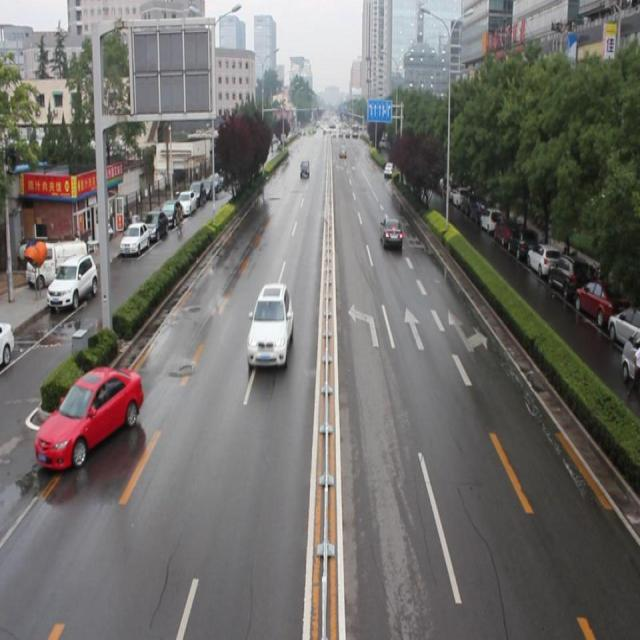car: (35, 368, 144, 468), (247, 283, 294, 370), (379, 215, 403, 247), (382, 160, 392, 178)
truck: (298, 158, 310, 177)
